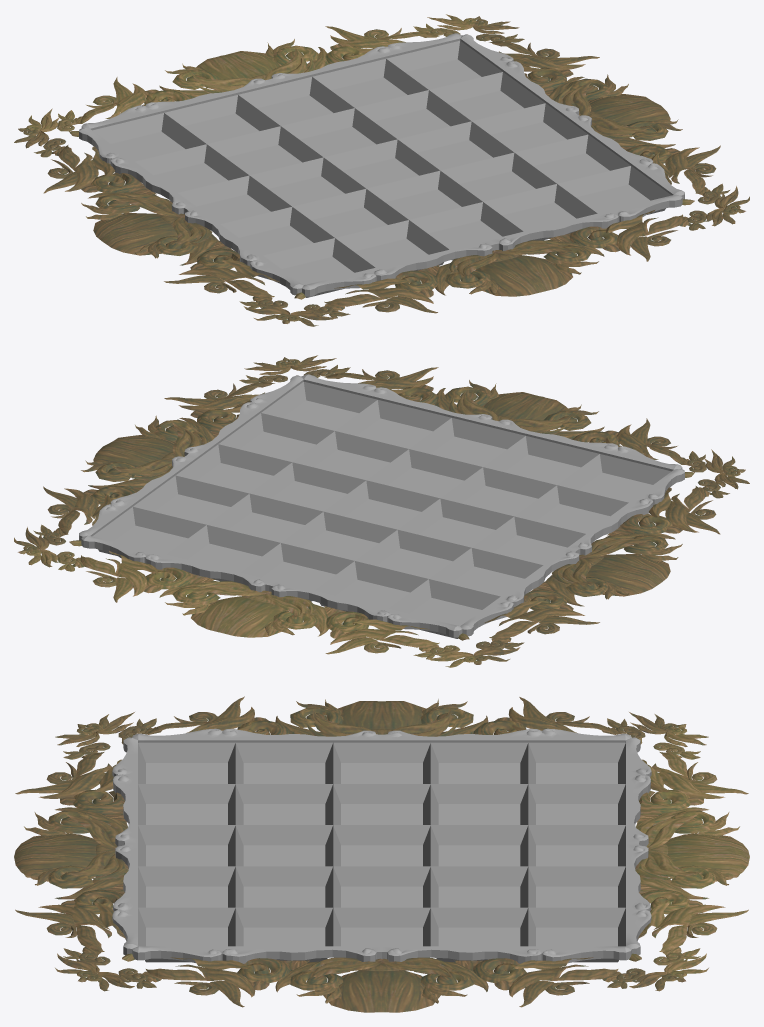
Rendered from marco 5x5.fbx.
3 renders of one model, top to bottom at view 1: azimuth 30°, elevation 25°; view 2: azimuth 150°, elevation 25°; view 3: azimuth 270°, elevation 25°, orthographic. The views are drawn at different scales.
Visible parts, largest first — view 1: top8; view 2: top8; view 3: top8.
Part boxes in pixels (x1=…): top8: x1=14, y1=14, x2=749, y2=326; top8: x1=14, y1=355, x2=749, y2=667; top8: x1=14, y1=696, x2=749, y2=1012.
Bounding box in the file's own units: 134 × 4.45 × 134.
